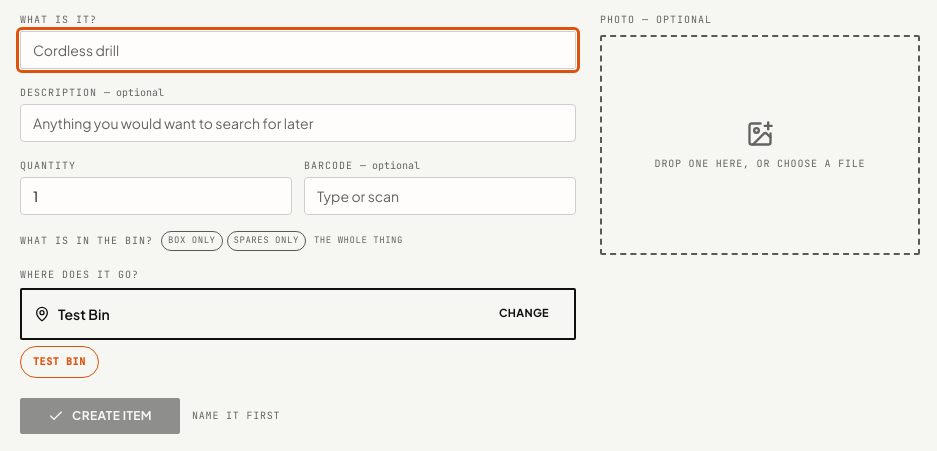
Test: (6b) the row's own Undo still reaches the item from the column the log moved into
Type "Socket Set" into the field with placeholder "Cordless drill" at [298, 50], box [20,31,576,69]
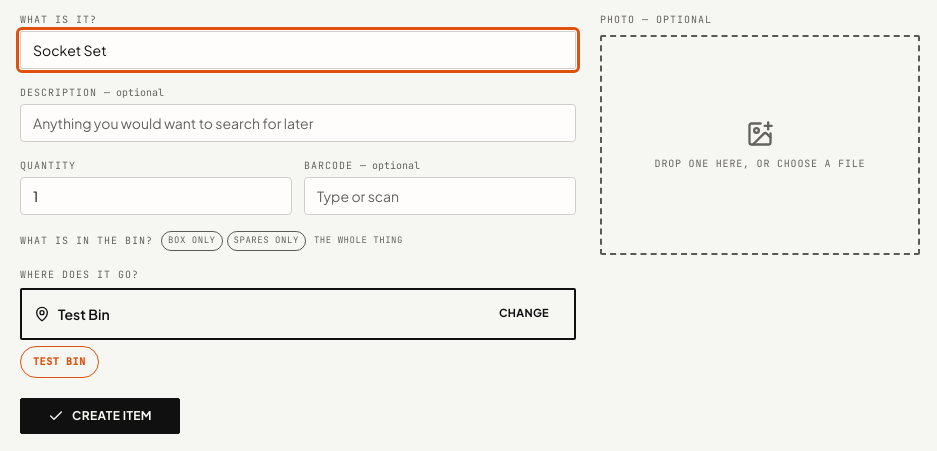
Click the button "Create item" at [100, 416], box [20,398,180,434]
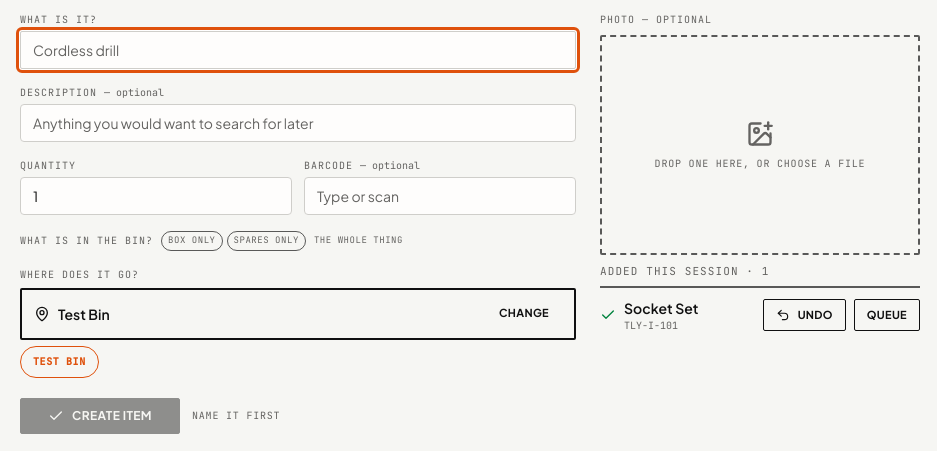
Now the text "TLY-I-101" is shown, box [624,318,678,332]
Click the button "Undo" at [804, 315], box [763,299,846,331]
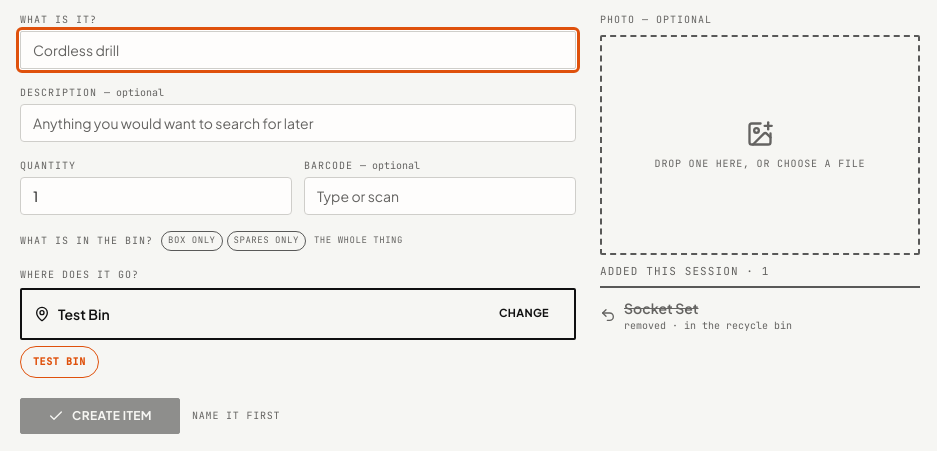
Now the text "removed · in the recycle bin" is shown, box [624,318,792,332]
Now the button "Undo" is gone
